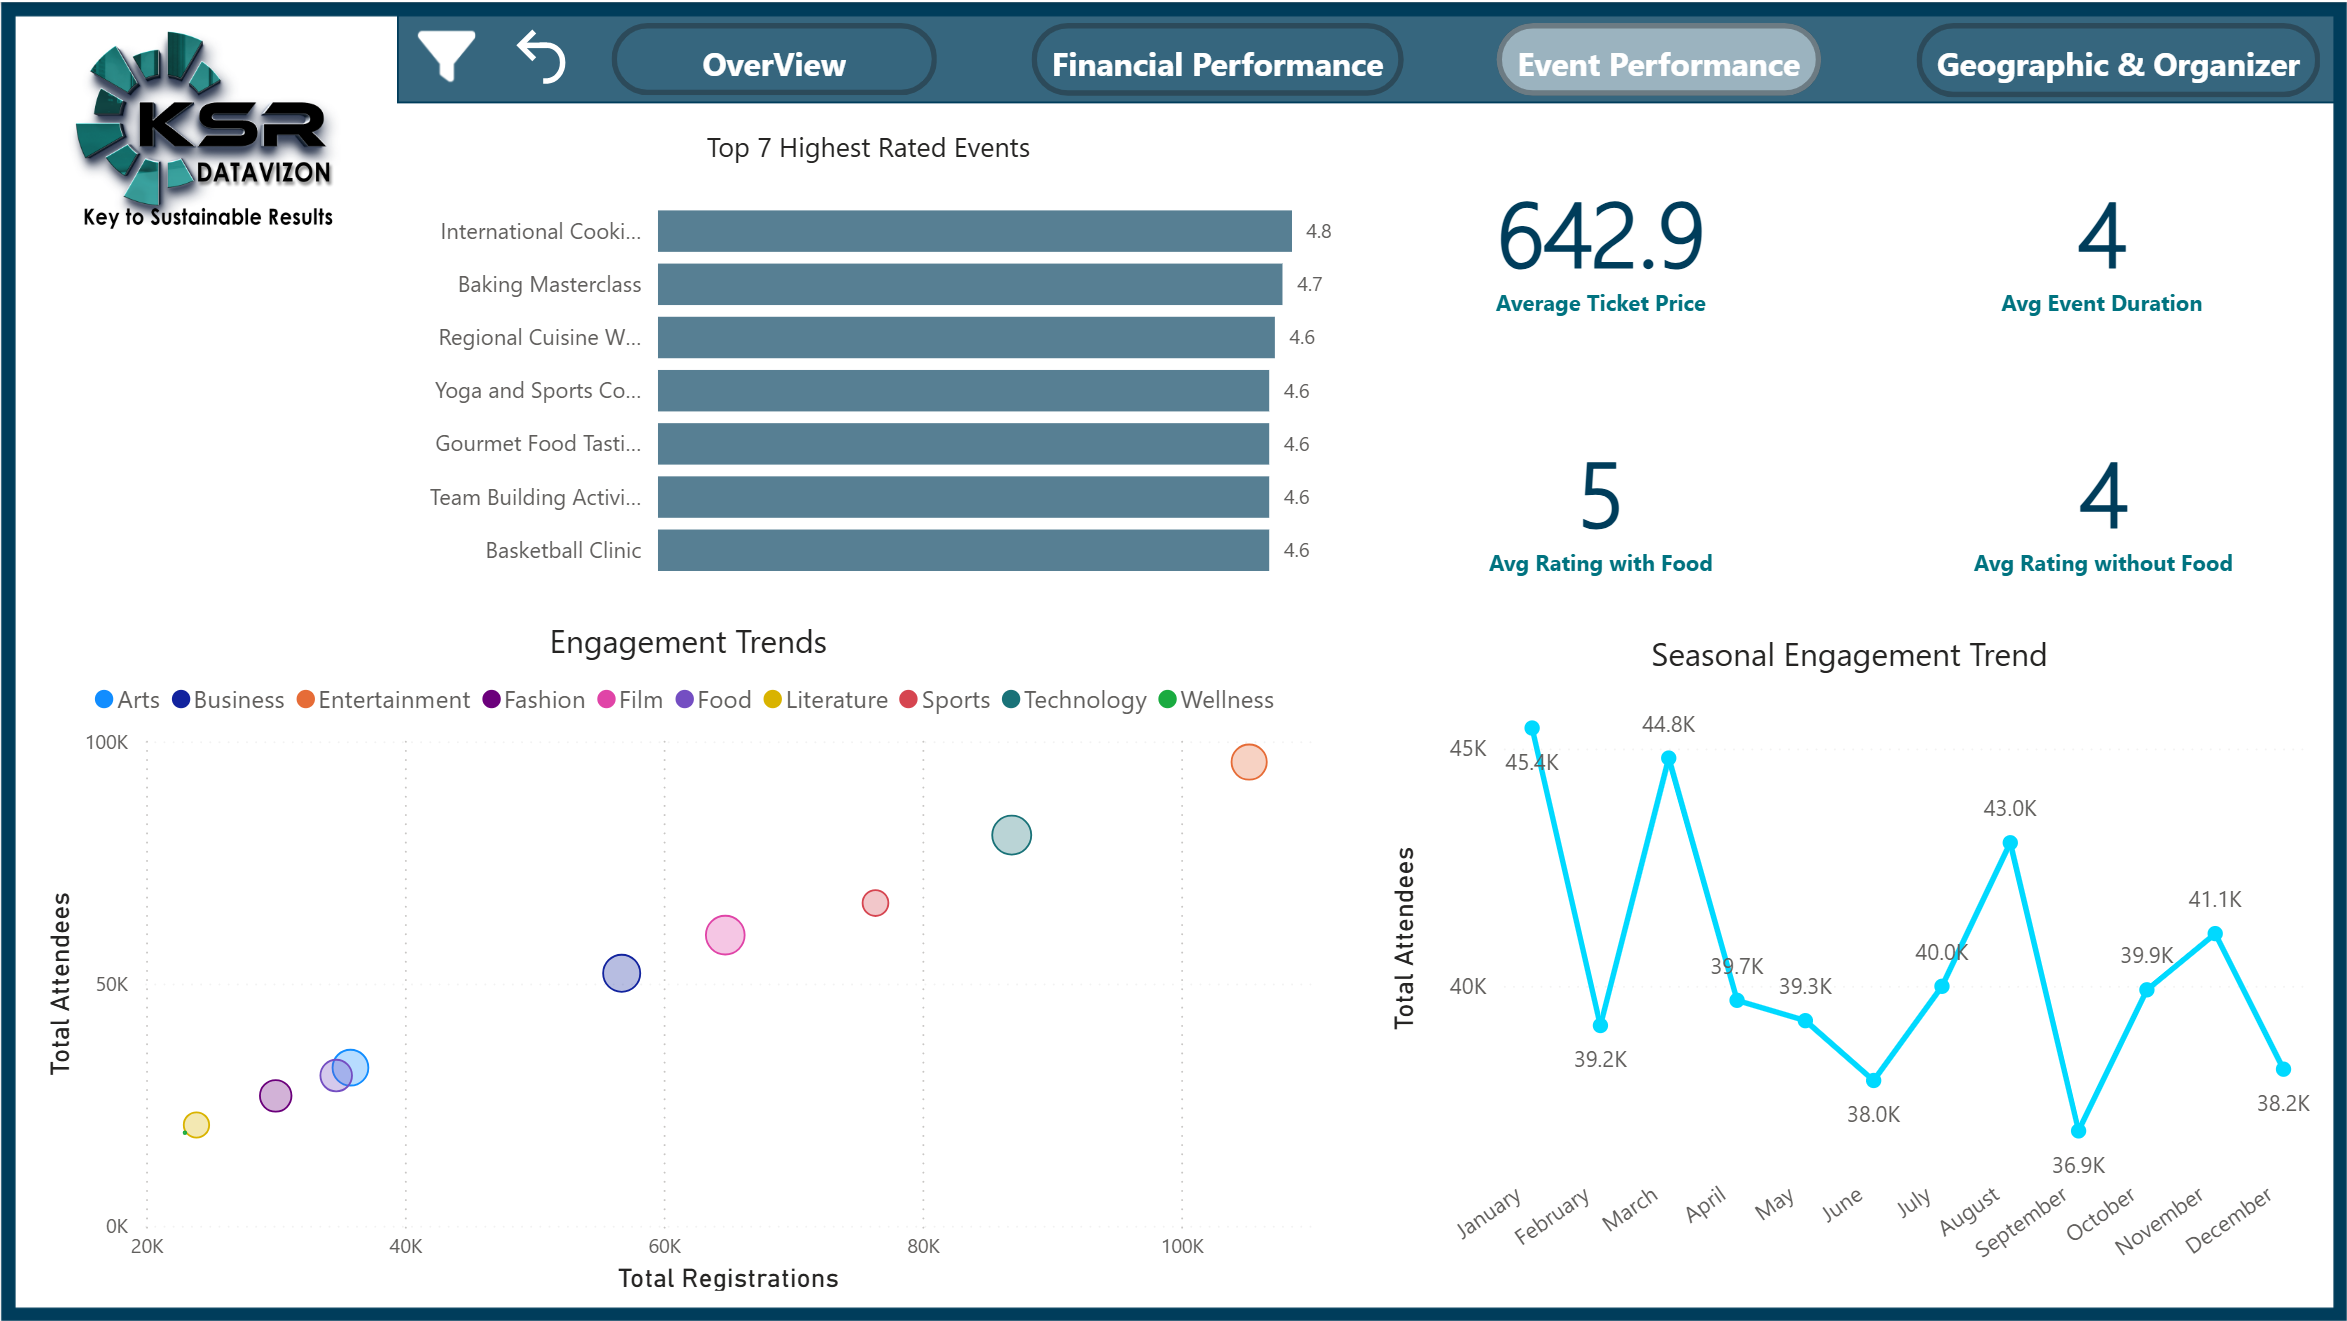

The page's visual inventory and layout, read from the dashboard file:
{"tool":"powerbi","page":{"name":"Event Performance","canvas":[1280,720],"ordinal":2},"visuals":[{"type":"image","box":[7.9,6.6,209.7,125.3],"z":0},{"type":"scatterChart","title":"Engagement Trends","fields":{"X":["Measure Table.Total Registrations"],"Y":["Measure Table.Total Attendees"],"Size":["Measure Table.Attendance-to-Registration Ratio (Conversion Rate)"],"Series":["KSR_Category_dim.Category"]},"box":[18.5,336.3,712.1,371.9],"z":1000},{"type":"shape","box":[215.6,6.3,1057.5,48.7],"z":2000},{"type":"actionButton","title":"Filter Customer","box":[223.6,9.5,47.6,39.6],"z":4000},{"type":"actionButton","box":[274.7,10.2,42.5,39.8],"z":5000},{"type":"actionButton","box":[332.7,11.6,177.6,39.3],"z":6000},{"type":"actionButton","box":[561.6,11.4,203,39.7],"z":7000},{"type":"actionButton","box":[815.9,11.4,177.1,39.7],"z":8000},{"type":"actionButton","box":[1044.3,11.1,220.3,40.5],"z":11000},{"type":"clusteredBarChart","title":"Top 7 Highest Rated Events","fields":{"Category":["KSR_Events_Data_fct.Event Name"],"Y":["Measure Table.Avg Rating"]},"box":[216.3,68.6,514.3,258.5],"z":12000},{"type":"card","fields":{"Values":["Measure Table.Average Ticket Price"]},"box":[784.6,77.8,175.4,108.1],"z":13000},{"type":"card","fields":{"Values":["Measure Table.Avg Event Duration"]},"box":[1057.6,77.8,175.4,108.1],"z":14000},{"type":"card","fields":{"Values":["Measure Table.Avg Rating with Food"]},"box":[784.6,218.9,175.4,108.1],"z":15000},{"type":"card","fields":{"Values":["Measure Table.Avg Rating without Food"]},"box":[1058.9,218.9,175.4,108.1],"z":16000},{"type":"lineChart","title":"Seasonal Engagement Trend","fields":{"Y":["Measure Table.Total Attendees"],"Category":["AW_Calender.Month Name"]},"box":[752,344,512.6,364.2],"z":17000}]}

Visuals, with their boxes in screenshot pixels (x1, y1, x2, y2), scaled from the page's 1280x720 canvas onto the 2347x1321 screenshot:
image: box=[14, 12, 399, 242]
"Engagement Trends" scatterChart: box=[34, 617, 1340, 1299]
shape: box=[395, 12, 2334, 101]
"Filter Customer" actionButton: box=[410, 17, 497, 90]
actionButton: box=[504, 19, 582, 92]
actionButton: box=[610, 21, 936, 93]
actionButton: box=[1030, 21, 1402, 94]
actionButton: box=[1496, 21, 1821, 94]
actionButton: box=[1915, 20, 2319, 95]
"Top 7 Highest Rated Events" clusteredBarChart: box=[397, 126, 1340, 600]
card - Measure Table.Average Ticket Price: box=[1439, 143, 1760, 341]
card - Measure Table.Avg Event Duration: box=[1939, 143, 2261, 341]
card - Measure Table.Avg Rating with Food: box=[1439, 402, 1760, 600]
card - Measure Table.Avg Rating without Food: box=[1942, 402, 2263, 600]
"Seasonal Engagement Trend" lineChart: box=[1379, 631, 2319, 1299]
